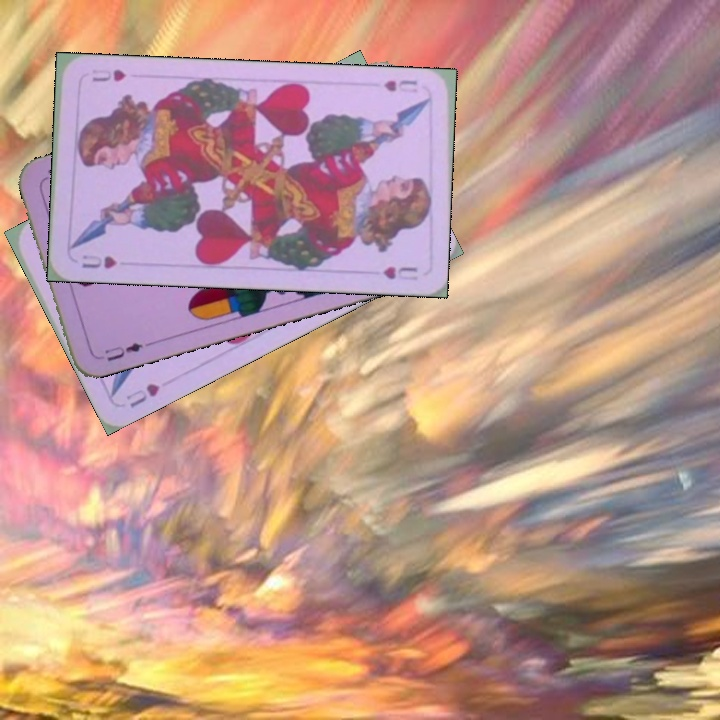EU: (93, 338, 146, 364)
HU: (121, 379, 163, 411), (77, 251, 120, 271), (379, 76, 420, 96)
